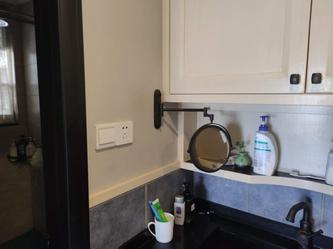switch: (99, 128, 121, 143)
